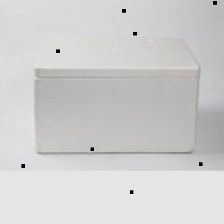foam_box: (25, 25, 207, 159)
